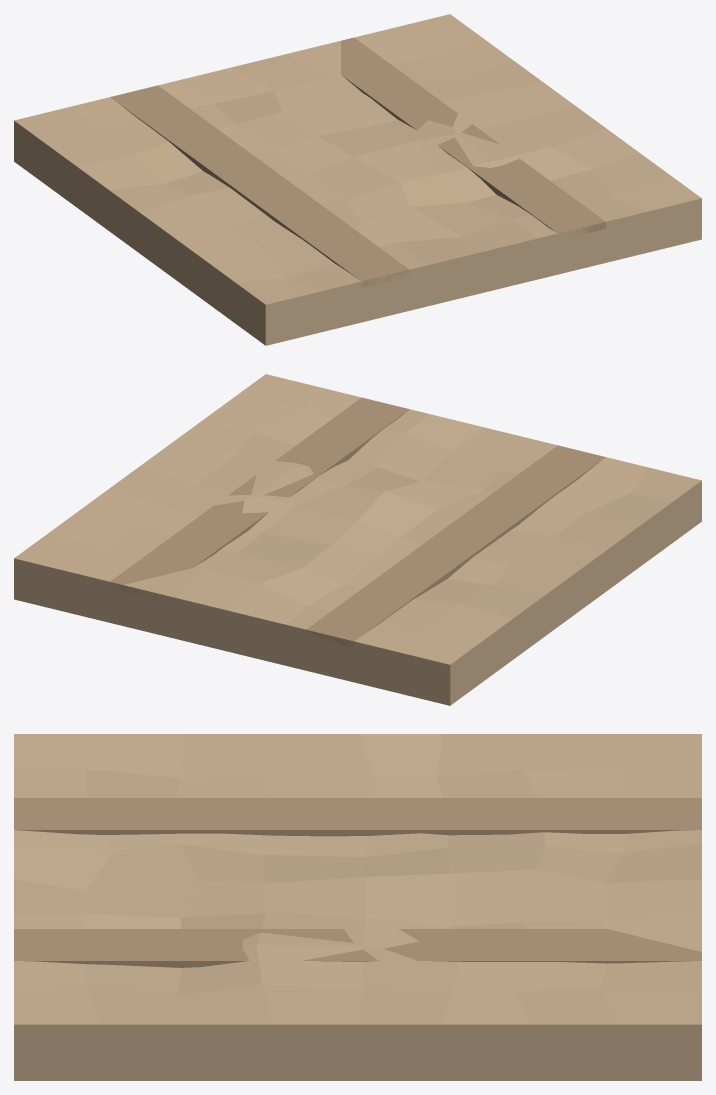
File: SM_Ground_Road.glb
3 views of the same model, one above another, from view 1: azimuth 30°, elevation 25°; view 2: azimuth 150°, elevation 25°; view 3: azimuth 270°, elevation 25° (orthographic). The views are drawn at different scales.
Parts seen in each view (by area): view 1: SM_Ground_Road; view 2: SM_Ground_Road; view 3: SM_Ground_Road.
Part boxes in pixels (x1,y1,x2,y2): SM_Ground_Road: (14,14,701,345); SM_Ground_Road: (14,374,701,705); SM_Ground_Road: (14,734,701,1080).
Bounding box in the file's own units: 2 × 0.189 × 2.
